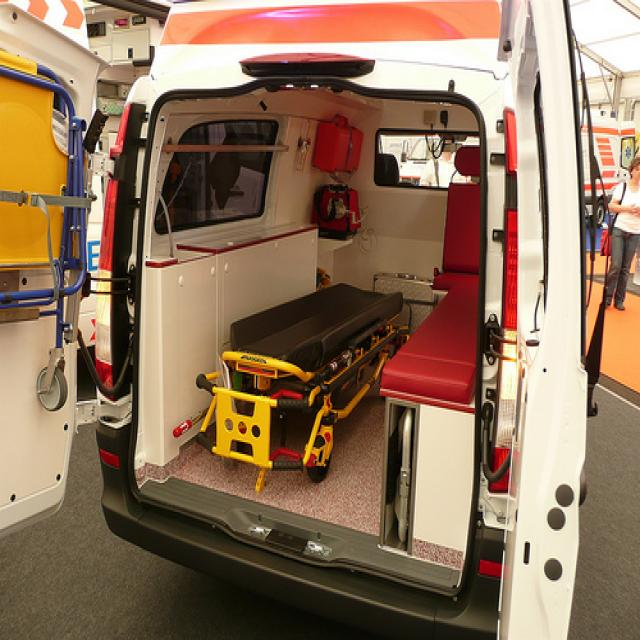emergency-vehicle: (100, 70, 587, 638)
